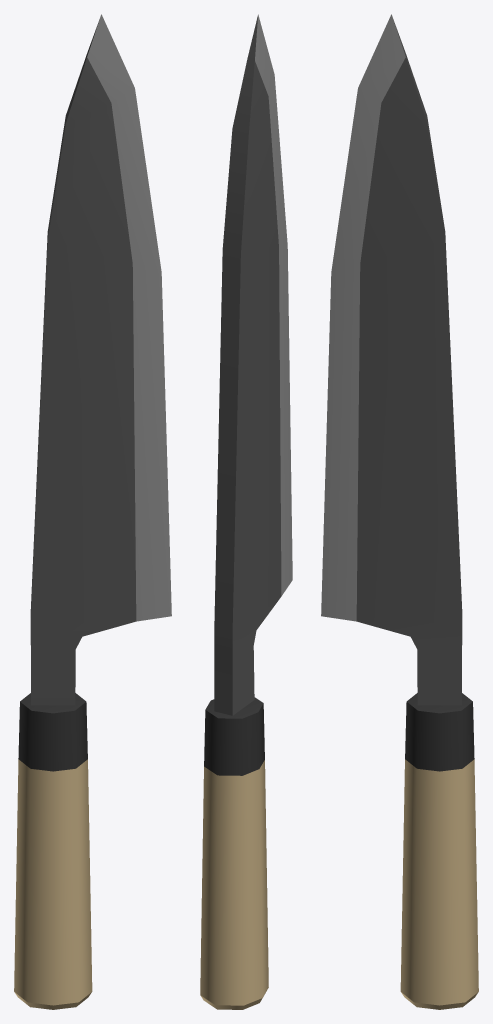
The model's file is KitchenKnife.fbx.
3 renders of one model, left to right at view 1: azimuth 90°, elevation 25°; view 2: azimuth 150°, elevation 25°; view 3: azimuth 270°, elevation 25°, orthographic.
Parts seen in each view (by area): view 1: KitchenKnife; view 2: KitchenKnife; view 3: KitchenKnife.
Boxes of the visible parts, x1=… form: KitchenKnife: x1=14, y1=14, x2=171, y2=1009; KitchenKnife: x1=200, y1=14, x2=292, y2=1009; KitchenKnife: x1=321, y1=14, x2=478, y2=1009.
Bounding box in the file's own units: 0.0353 × 0.5815 × 0.0846.
